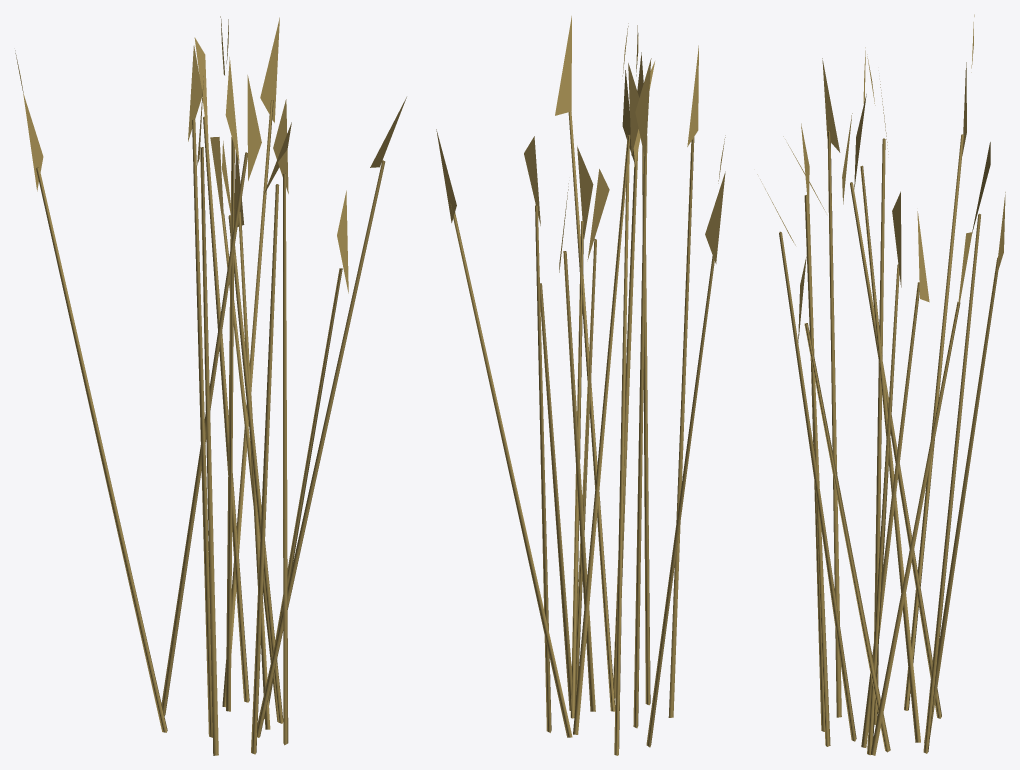
File: trigo_1.glb
The picture shows the model from 3 angles, left to right: view 1: azimuth 30°, elevation 25°; view 2: azimuth 150°, elevation 25°; view 3: azimuth 270°, elevation 25°; orthographic projection. The views are drawn at different scales.
Visible parts, largest first — view 1: trigo_1.001; view 2: trigo_1.001; view 3: trigo_1.001.
Part boxes in pixels (x1,y1,x2,y2): trigo_1.001: (15, 16, 406, 755); trigo_1.001: (436, 16, 725, 755); trigo_1.001: (757, 14, 1005, 755).
Size of the model in its own units: 0.4472 by 1.1 by 0.3676.
